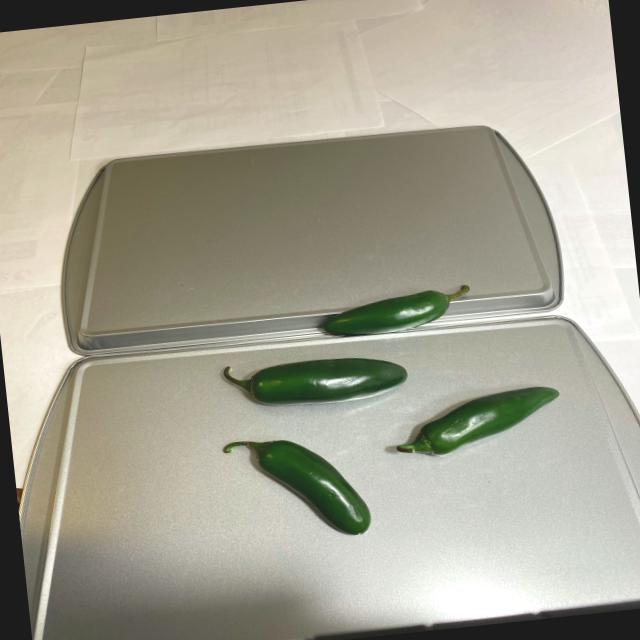chilli: (194, 273, 572, 551)
